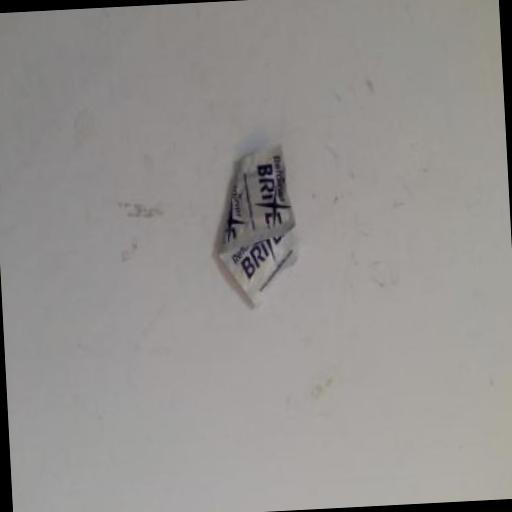plastic: (214, 144, 302, 308)
